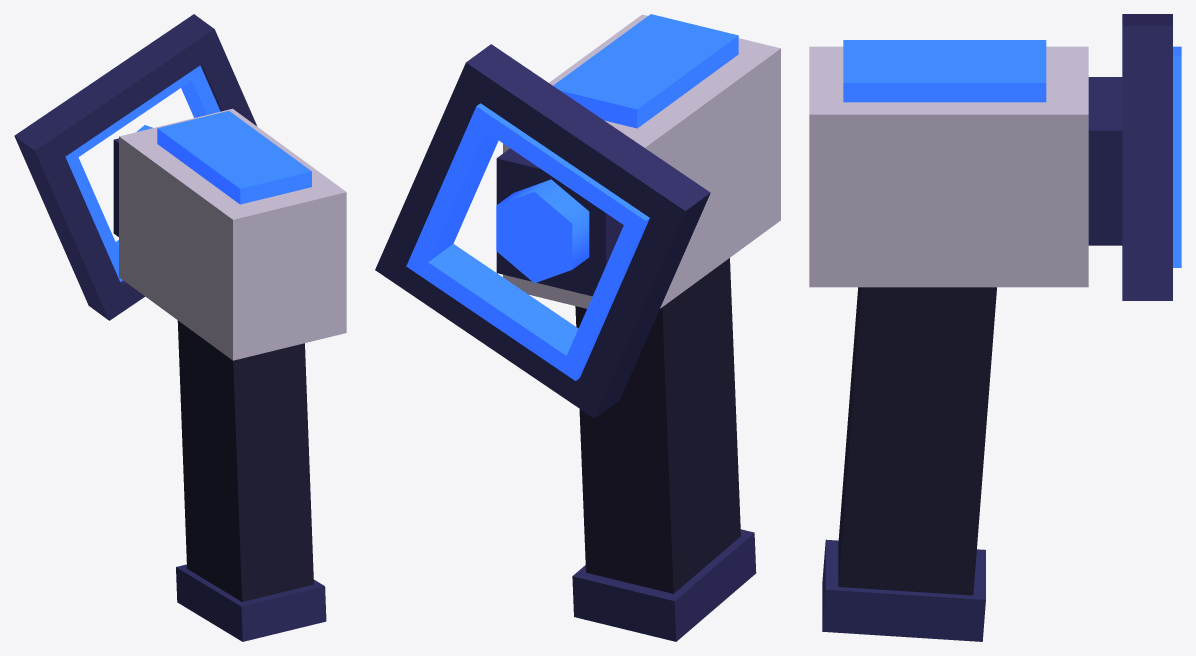
File: shield_emitter.lod1.glb
3 views of the same model, side by side, from view 1: azimuth 30°, elevation 25°; view 2: azimuth 150°, elevation 25°; view 3: azimuth 270°, elevation 25° (orthographic). The views are drawn at different scales.
Visible parts, largest first — view 1: item.shield_emitter.body, part.ring; view 2: item.shield_emitter.body, part.ring; view 3: item.shield_emitter.body, part.ring.
Boxes of the visible parts, <box> form: item.shield_emitter.body: <box>113,108,346,641</box>; part.ring: <box>14,14,257,320</box>; item.shield_emitter.body: <box>496,14,780,641</box>; part.ring: <box>375,44,710,418</box>; item.shield_emitter.body: <box>809,40,1122,641</box>; part.ring: <box>1122,14,1181,300</box>.
Size of the model in its own units: 0.2656 by 0.5075 by 0.275.
